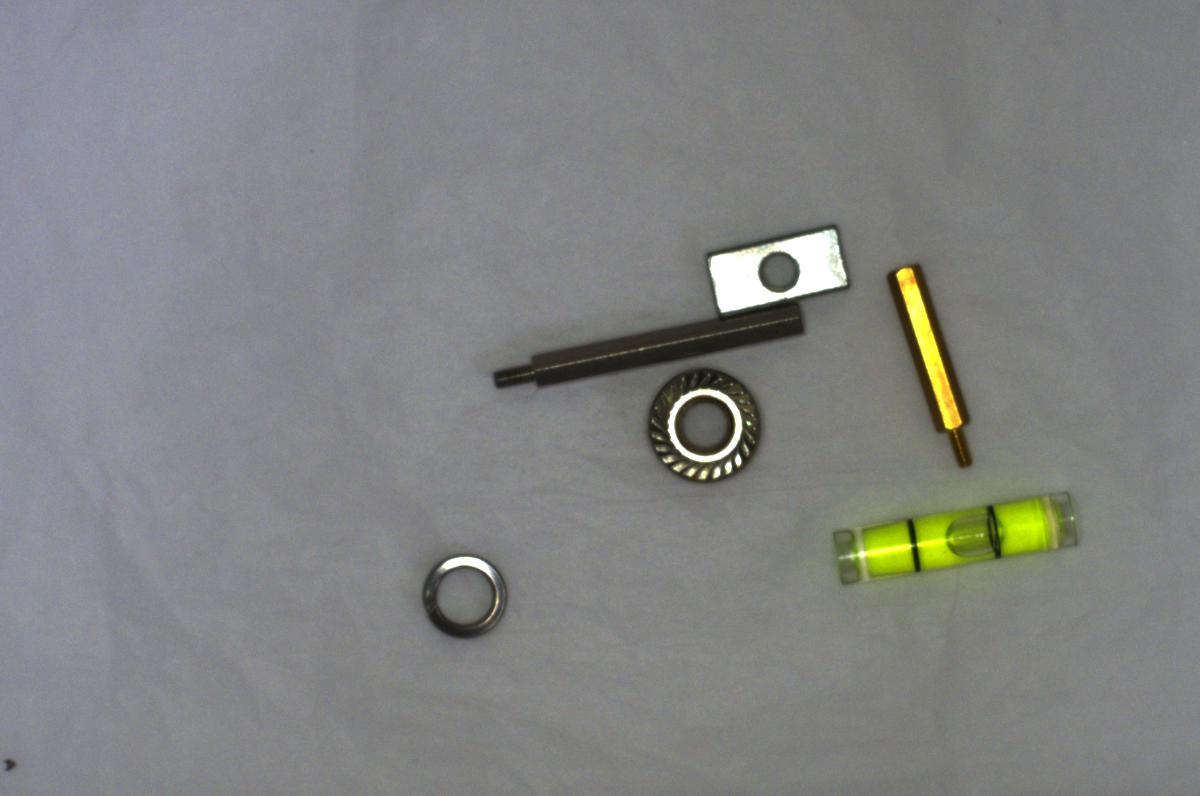Flange nut: (621, 365, 774, 489)
Hexagon pillar: (886, 254, 982, 473)
Hexagonal steel column: (493, 301, 808, 389)
Horizontal bubble: (832, 481, 1090, 581)
Rectangular nut: (699, 226, 859, 310)
Spring washer: (418, 542, 512, 641)
